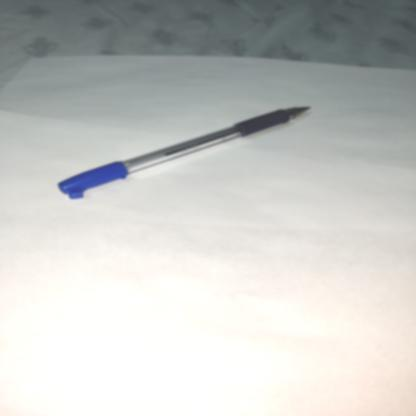Pen: (36, 69, 358, 234)
